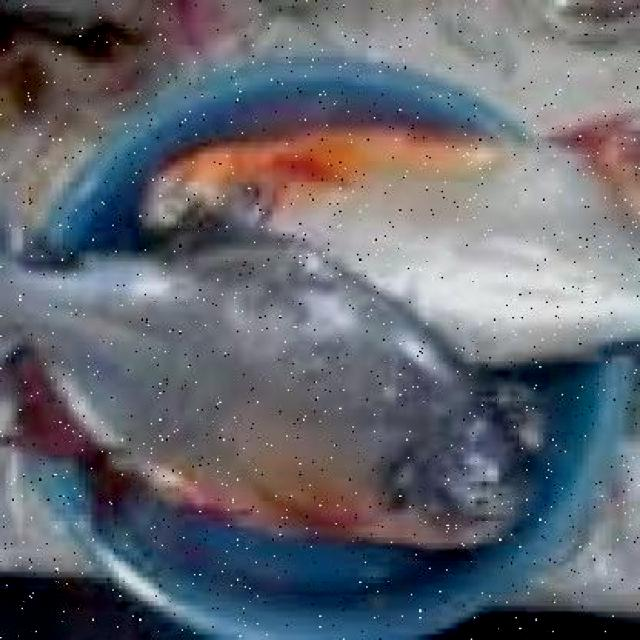ikan-pacu: (1, 215, 518, 551), (169, 98, 640, 337)
